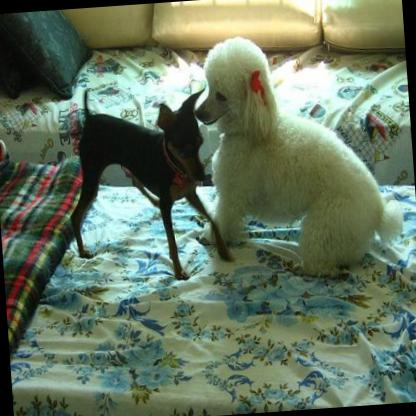miniature_poodle: (188, 23, 406, 283)
